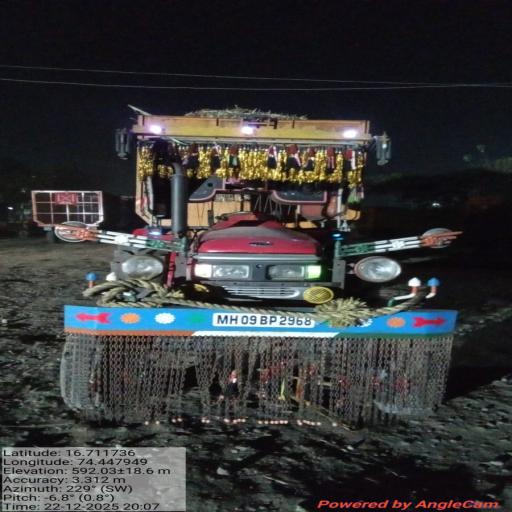number_plate: (206, 310, 338, 336)
